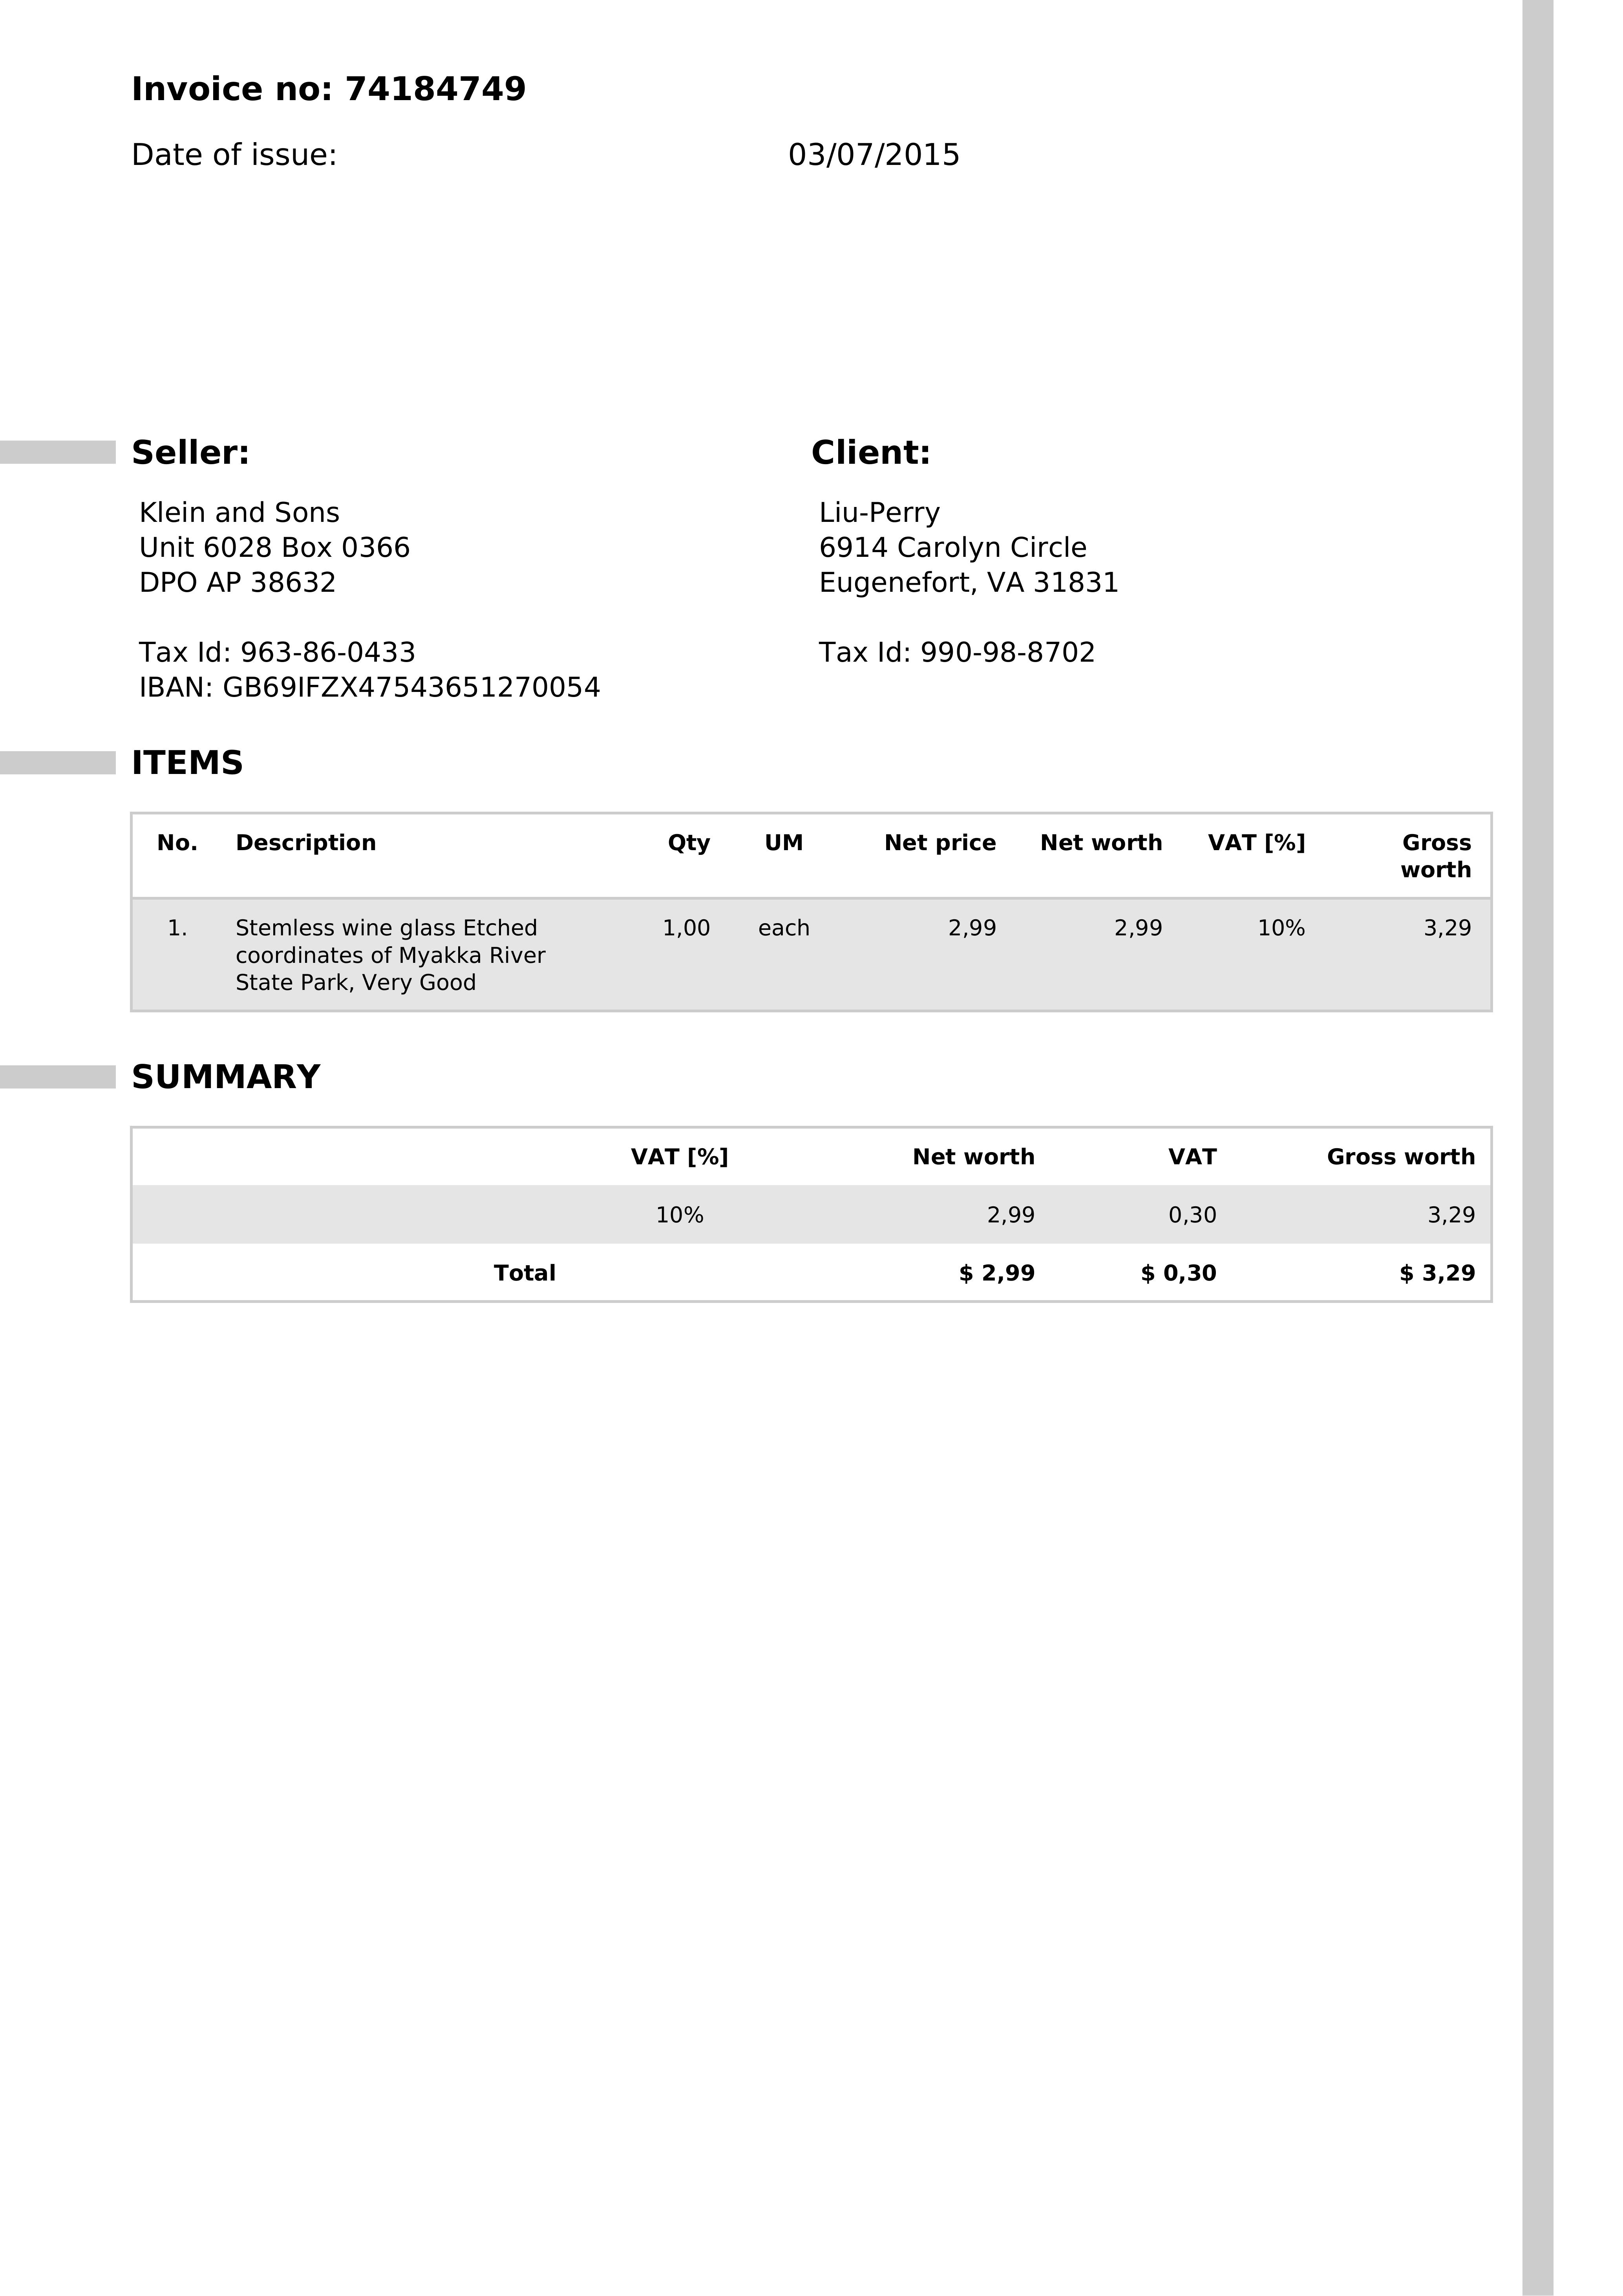column: (214, 812, 564, 1015), (1033, 806, 1180, 1010), (1312, 1131, 1490, 1300), (899, 1131, 1064, 1300), (871, 815, 1008, 1008), (1196, 817, 1337, 1005), (1374, 812, 1497, 1005), (615, 1121, 738, 1298), (1122, 1121, 1244, 1298), (480, 1124, 585, 1302), (639, 812, 729, 1008), (748, 817, 838, 1014)
